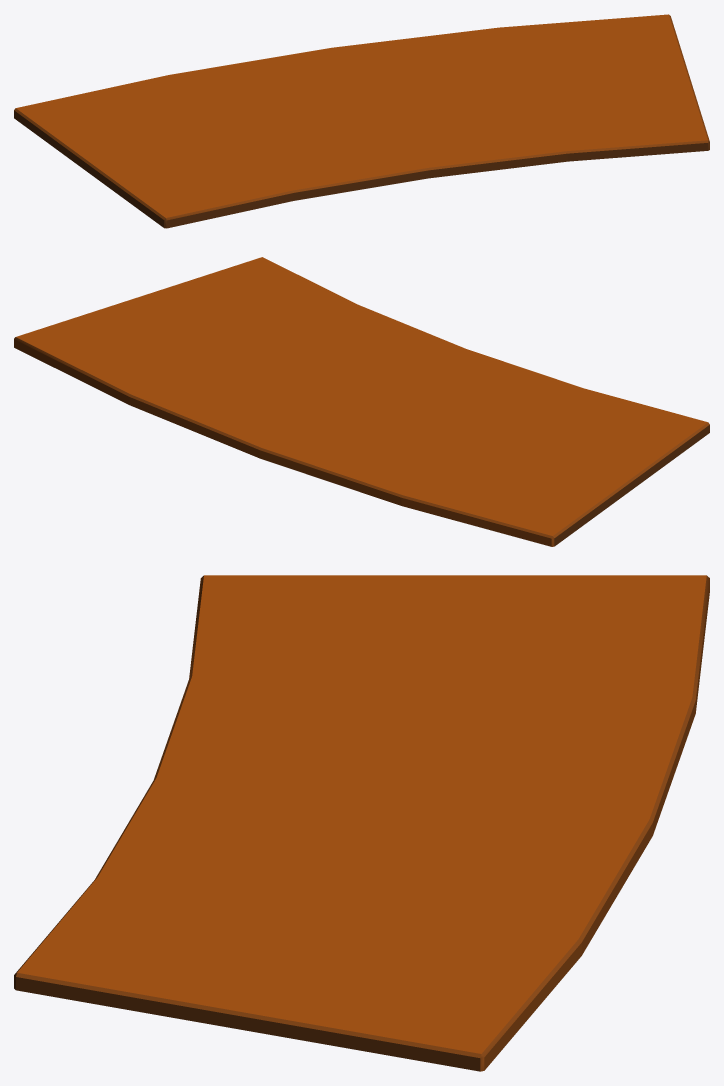
File: ring6.FBX
3 views of the same model, one above another, from view 1: azimuth 30°, elevation 25°; view 2: azimuth 150°, elevation 25°; view 3: azimuth 270°, elevation 25° (orthographic). The views are drawn at different scales.
Visible parts, largest first — view 1: ring6; view 2: ring6; view 3: ring6.
Part boxes in pixels (x1=…): ring6: x1=14, y1=14, x2=709, y2=228; ring6: x1=14, y1=257, x2=709, y2=546; ring6: x1=14, y1=575, x2=709, y2=1071.
Size of the model in its own units: 348 by 5.51 by 213.
Materials: 1 (1 with a texture image).
